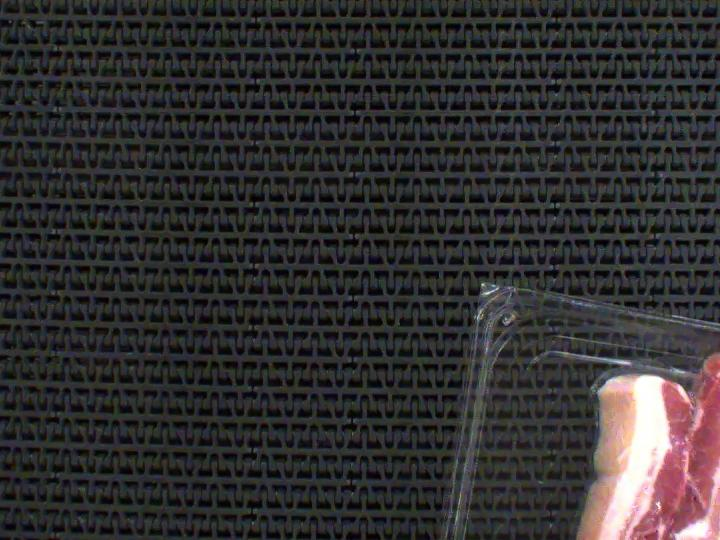unsealed: (580, 358, 720, 455)
